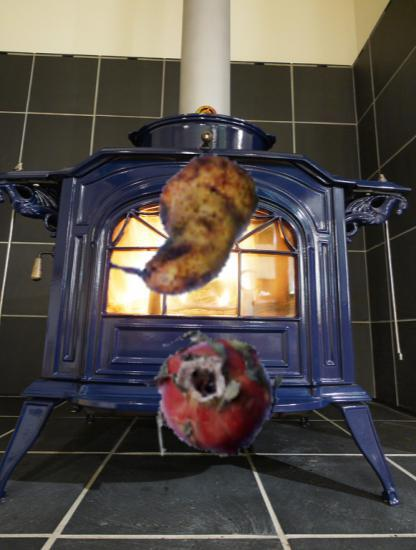Pear: (110, 149, 260, 299)
Pitahaya: (144, 323, 286, 465)
